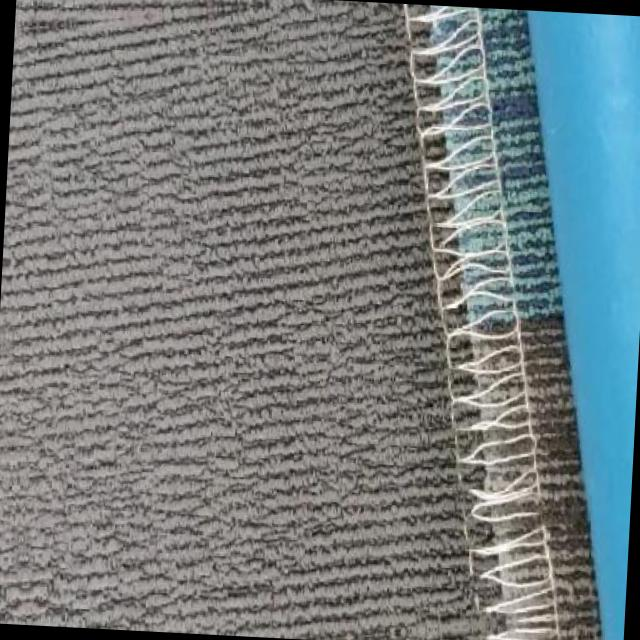gray stitch: (382, 5, 538, 343), (430, 344, 573, 640)
